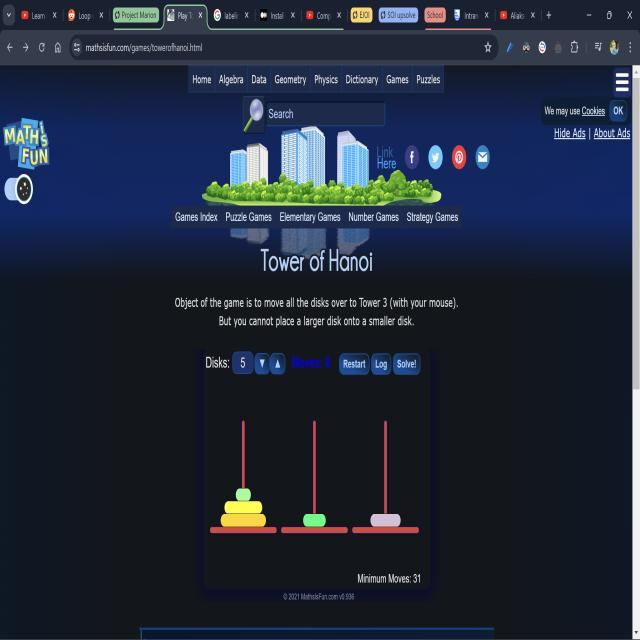disk1: (235, 488, 251, 501)
disk2: (303, 514, 326, 527)
disk3: (370, 514, 401, 526)
disk4: (225, 502, 262, 514)
disk5: (221, 514, 266, 526)
